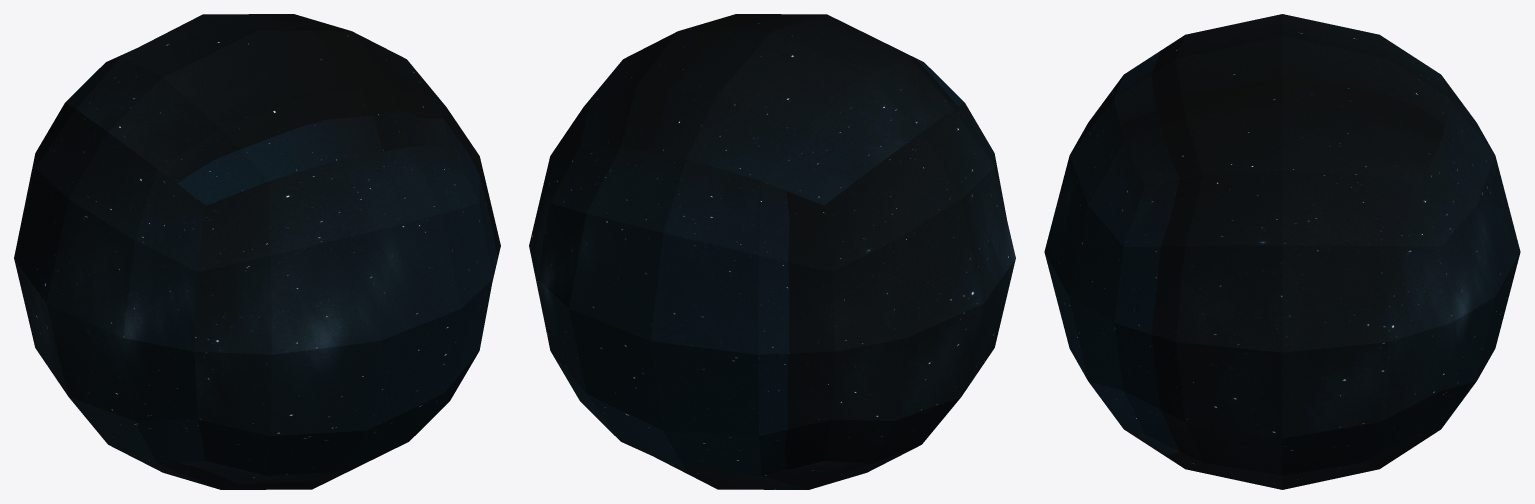
Rendered from Skybox.fbx.
The picture shows the model from 3 angles, left to right: view 1: azimuth 30°, elevation 25°; view 2: azimuth 150°, elevation 25°; view 3: azimuth 270°, elevation 25°; orthographic projection. The views are drawn at different scales.
Visible parts, largest first — view 1: SkyBox; view 2: SkyBox; view 3: SkyBox.
Boxes of the visible parts, left/top/right/bottom form: SkyBox: left=14, top=14, right=500, bottom=489; SkyBox: left=529, top=14, right=1015, bottom=489; SkyBox: left=1044, top=14, right=1520, bottom=489.
Size of the model in its own units: 2202 by 2202 by 2202.
Materials: 1 (1 with a texture image).
